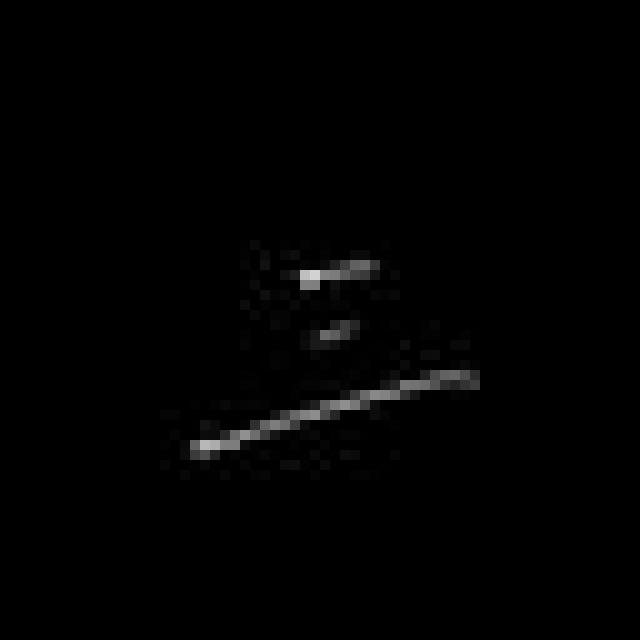3 -three-: (171, 241, 495, 471)
